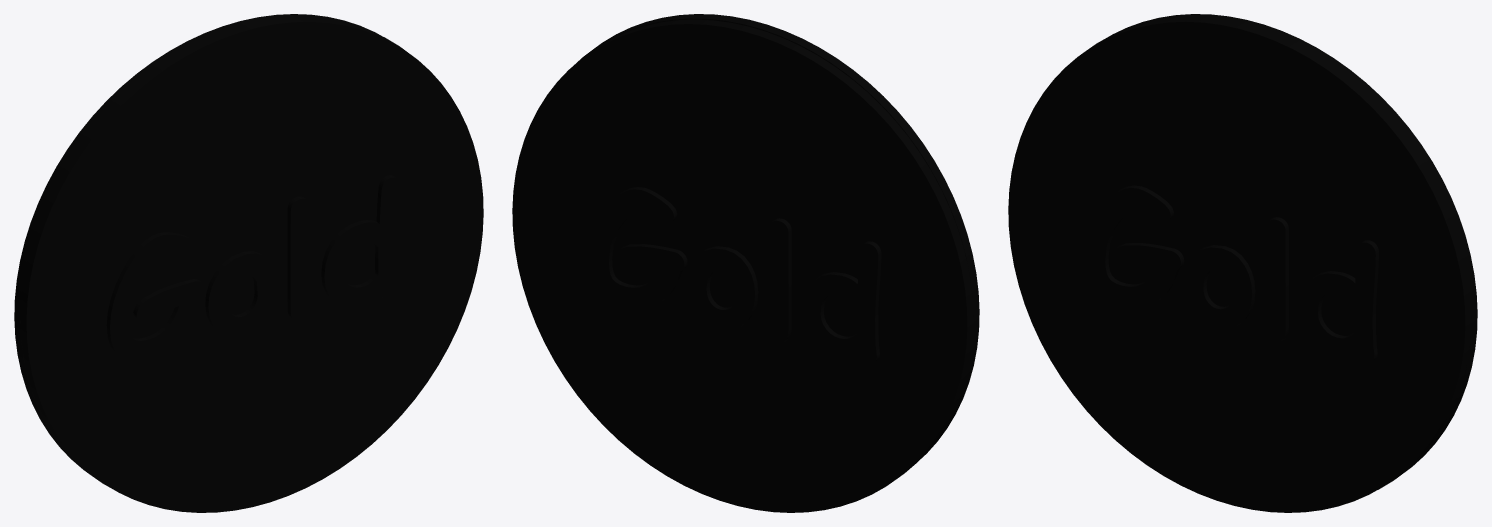
Rendered from Coin.fbx.
The picture shows the model from 3 angles, left to right: view 1: azimuth 30°, elevation 25°; view 2: azimuth 150°, elevation 25°; view 3: azimuth 330°, elevation 25°; orthographic projection.
Visible parts, largest first — view 1: node_id32, node_id35, node_id38; view 2: node_id38, node_id41, node_id32; view 3: node_id32, node_id35, node_id38.
Part boxes in pixels (left/top/right/bottom): node_id32: left=20, top=17, right=483, bottom=512; node_id35: left=106, top=175, right=400, bottom=361; node_id38: left=14, top=14, right=380, bottom=487; node_id38: left=512, top=19, right=973, bottom=512; node_id41: left=589, top=187, right=881, bottom=364; node_id32: left=574, top=14, right=979, bottom=458; node_id32: left=1008, top=17, right=1471, bottom=512; node_id35: left=1085, top=185, right=1378, bottom=363; node_id38: left=1112, top=14, right=1477, bottom=489.
Bounding box in the file's own units: 0.3727 × 0.3736 × 0.0261.
Materials: 4 (4 with a texture image).
